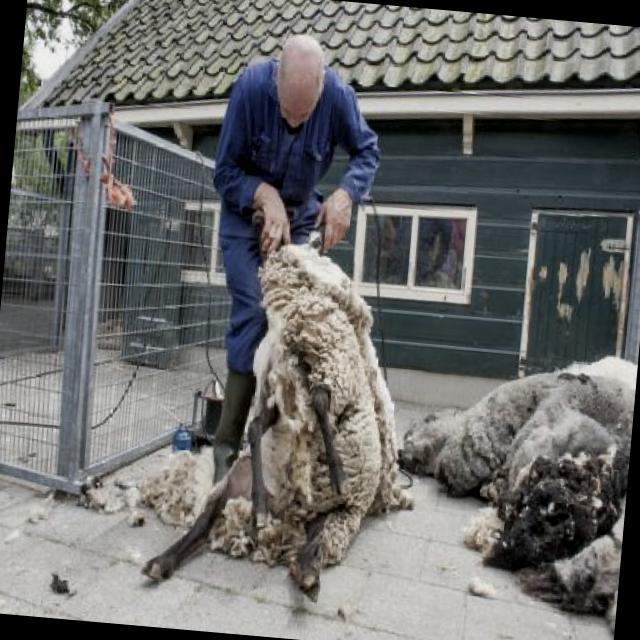Person: (178, 21, 388, 492)
